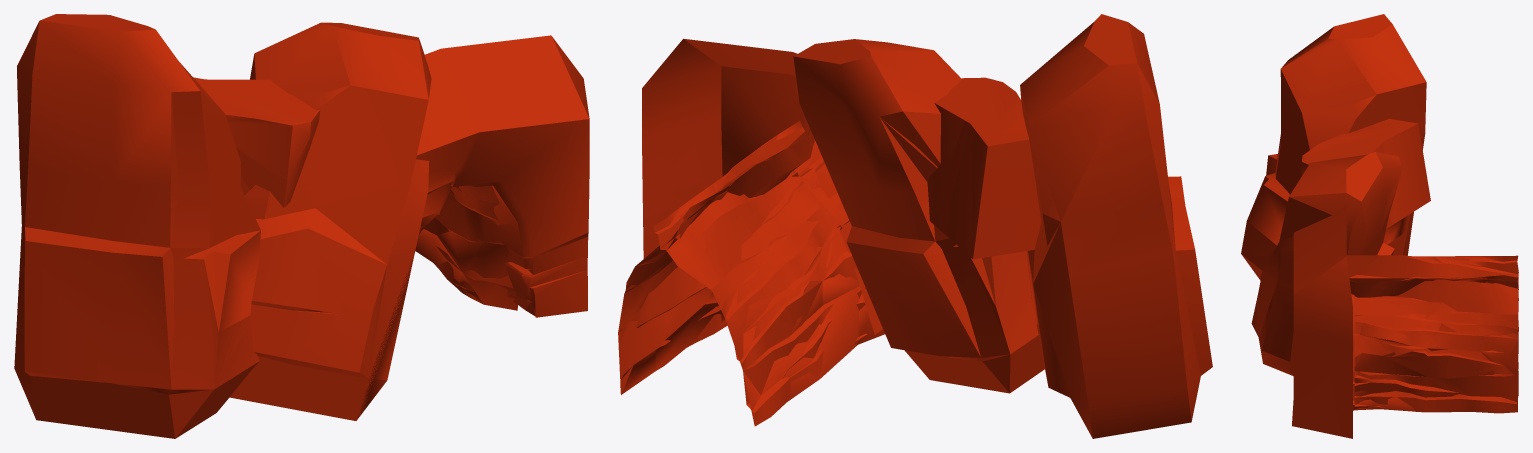
The model's file is SM_Cave_entrance.fbx.
3 renders of one model, left to right at view 1: azimuth 30°, elevation 25°; view 2: azimuth 150°, elevation 25°; view 3: azimuth 270°, elevation 25°, orthographic. The views are drawn at different scales.
Visible parts, largest first — view 1: SM_Cave_Entrance, SM_Cave_Entrance_col; view 2: SM_Cave_Entrance, SM_Cave_Entrance_col; view 3: SM_Cave_Entrance, SM_Cave_Entrance_col.
Part boxes in pixels (x1=…): SM_Cave_Entrance: x1=14, y1=14, x2=589, y2=430; SM_Cave_Entrance_col: x1=30, y1=15, x2=587, y2=438; SM_Cave_Entrance: x1=618, y1=14, x2=1212, y2=438; SM_Cave_Entrance_col: x1=618, y1=23, x2=1136, y2=424; SM_Cave_Entrance: x1=1241, y1=14, x2=1518, y2=426; SM_Cave_Entrance_col: x1=1241, y1=20, x2=1518, y2=438.
Bounding box in the file's own units: 4663 × 3288 × 2853.
